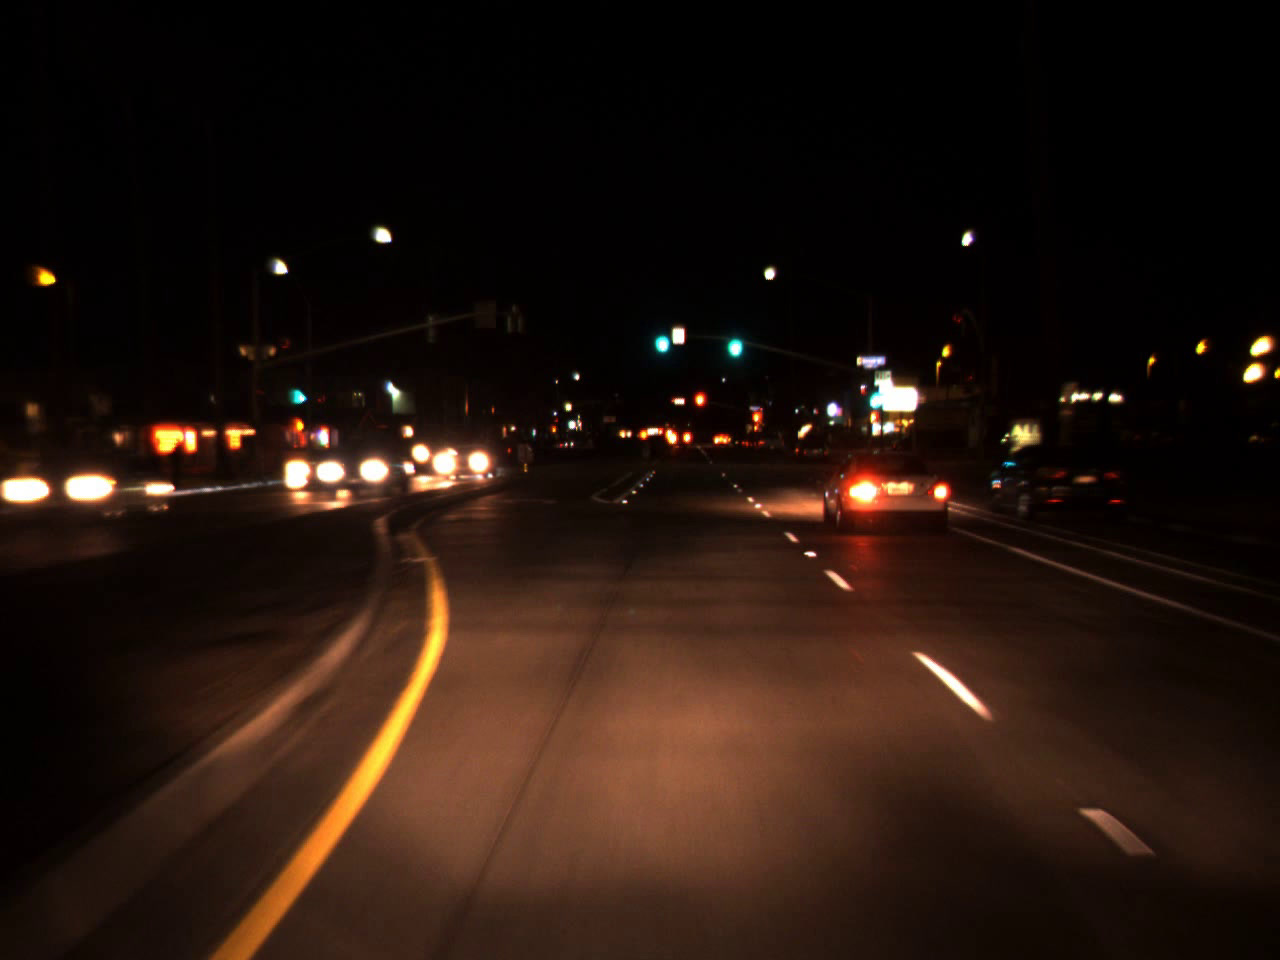go: (721, 316, 746, 364), (650, 314, 671, 359), (288, 373, 309, 409), (864, 377, 883, 413)
stop: (692, 389, 707, 424), (751, 410, 763, 434)
